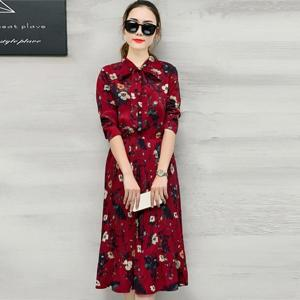C_dress: (93, 61, 194, 274)
